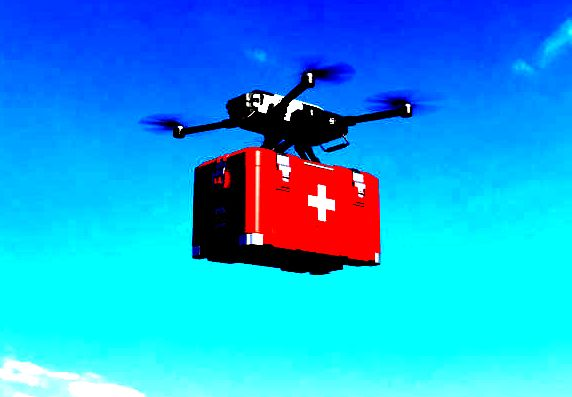Drone: (132, 49, 440, 156)
